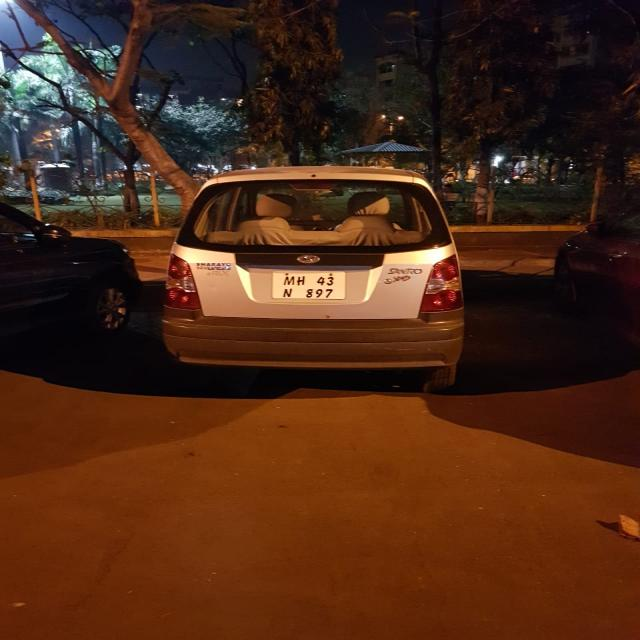Number-Plate: (276, 269, 344, 298)
